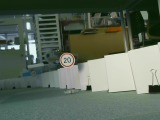speed_20: (59, 52, 75, 68)
